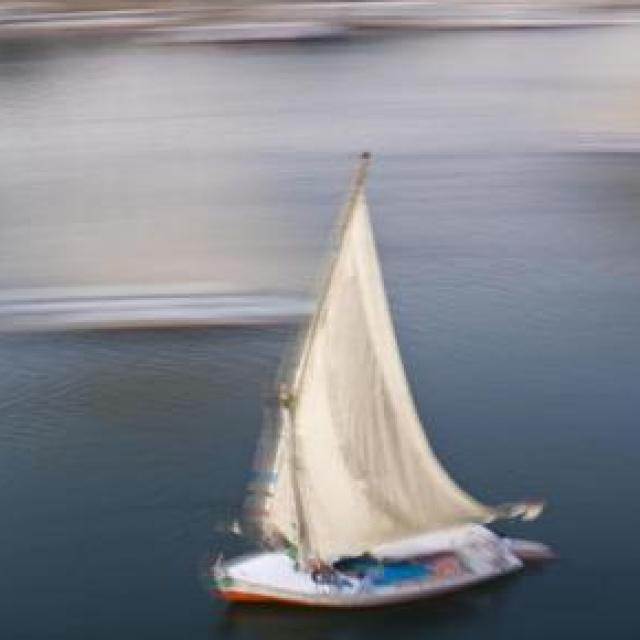sailboat: (191, 149, 536, 607)
